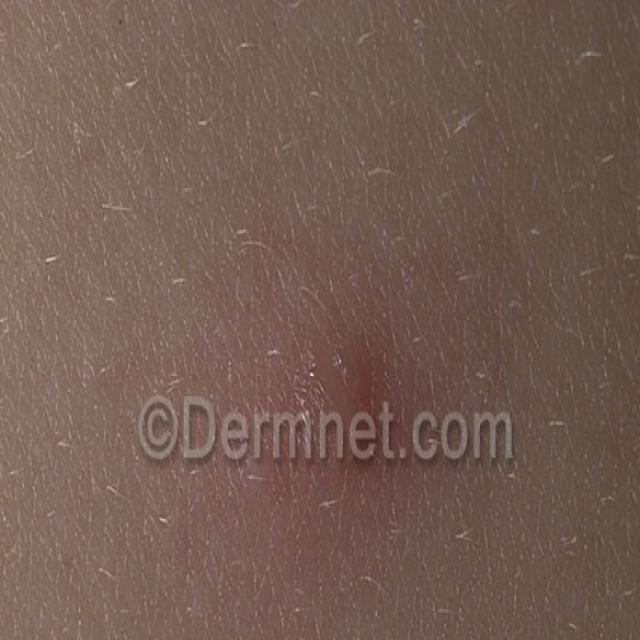Viral Infections: (277, 303, 422, 488)
